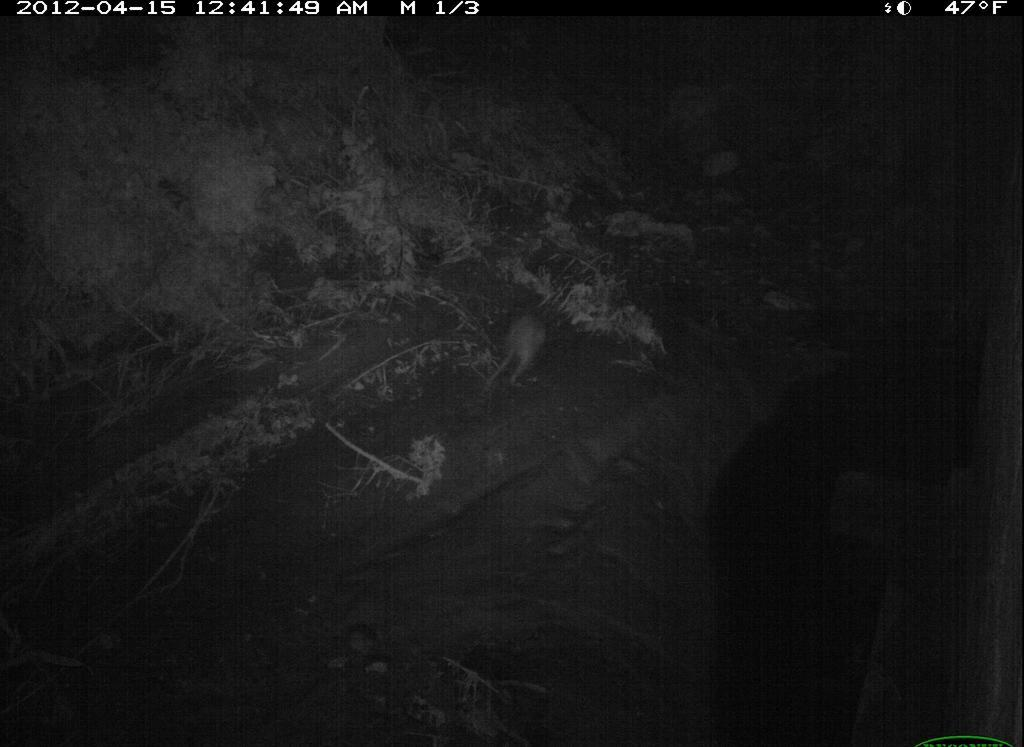opossum: (479, 274, 583, 405)
